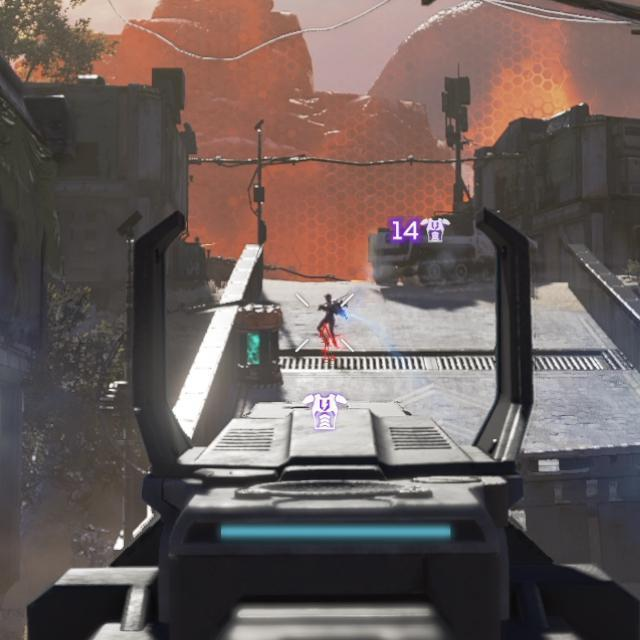avatar: (315, 291, 346, 348)
